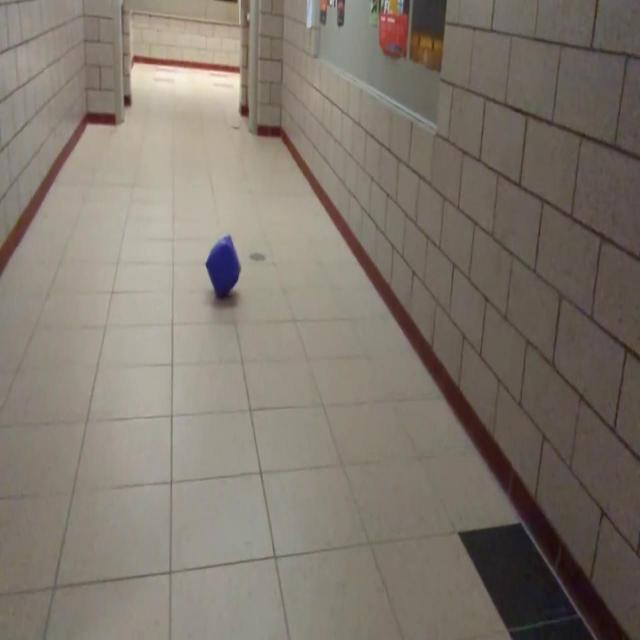frc_cube: (204, 236, 238, 298)
